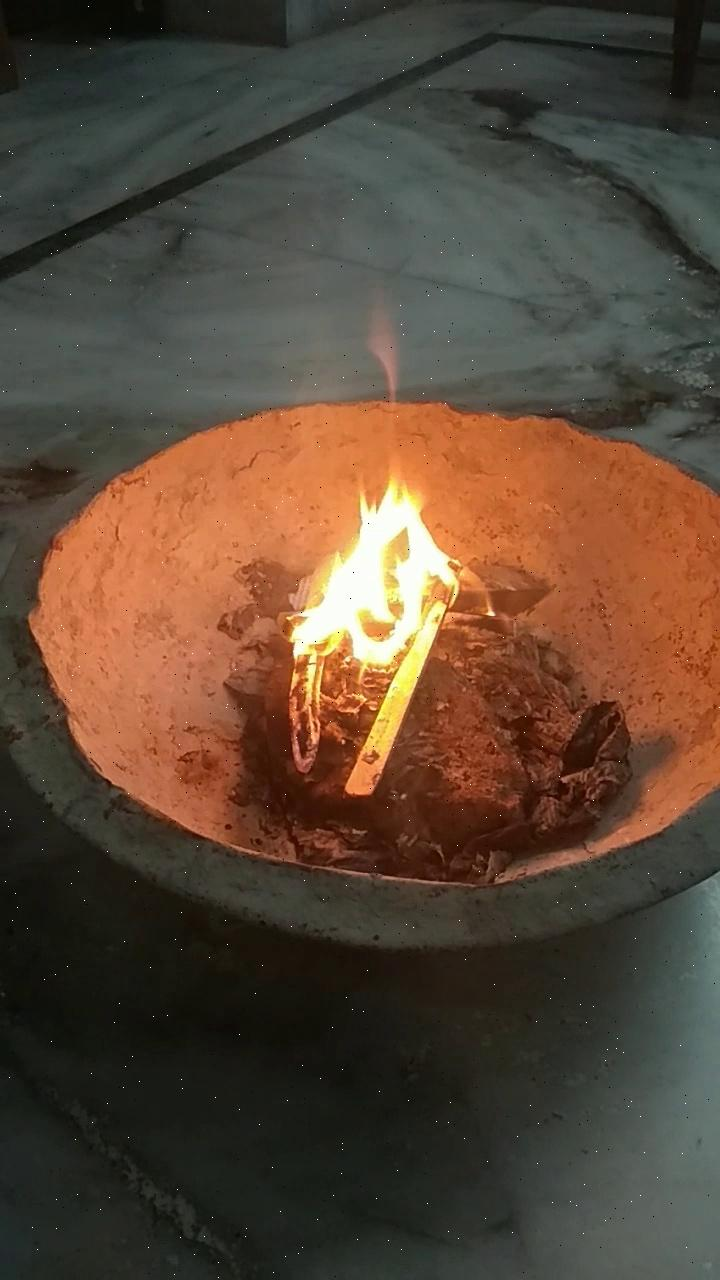fire: (297, 471, 471, 732)
smoke: (351, 307, 421, 447)
